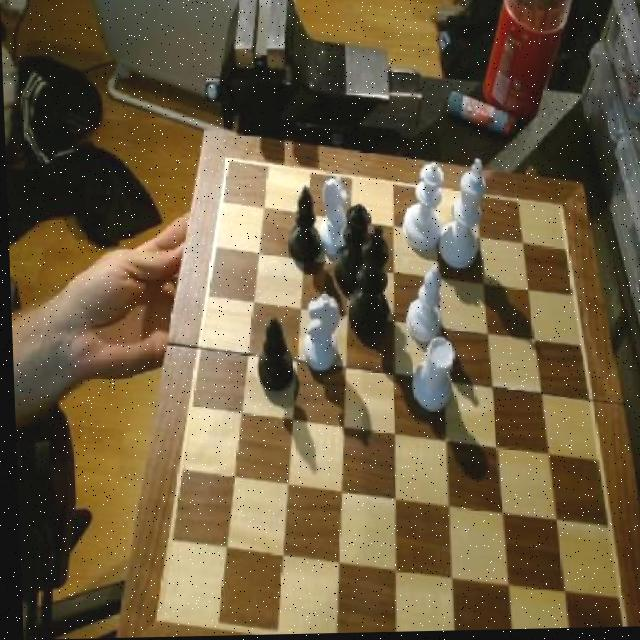bishop: (252, 318, 292, 401), (281, 184, 320, 268)
black-bishop: (338, 227, 393, 345)
black-pawn: (330, 204, 370, 293)
black-rook: (399, 266, 444, 347)
white-bishop: (437, 158, 488, 276)
white-king: (298, 293, 340, 376), (314, 179, 351, 259)
white-pawn: (400, 163, 445, 257)
white-queen: (405, 340, 455, 422)
